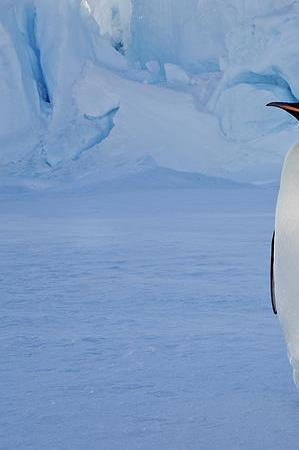Emperor Penguin: (246, 79, 299, 410)
